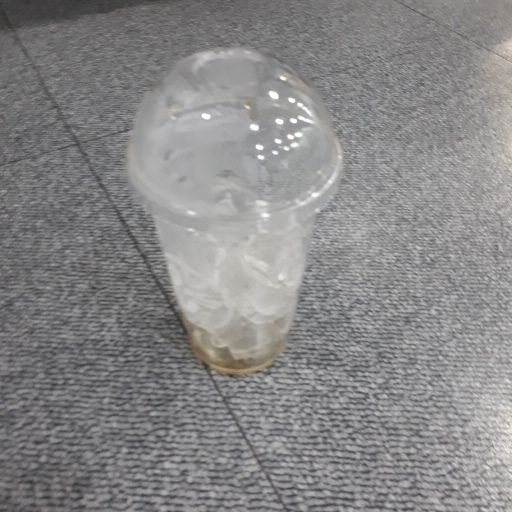Plastic_2: (128, 44, 345, 380)
